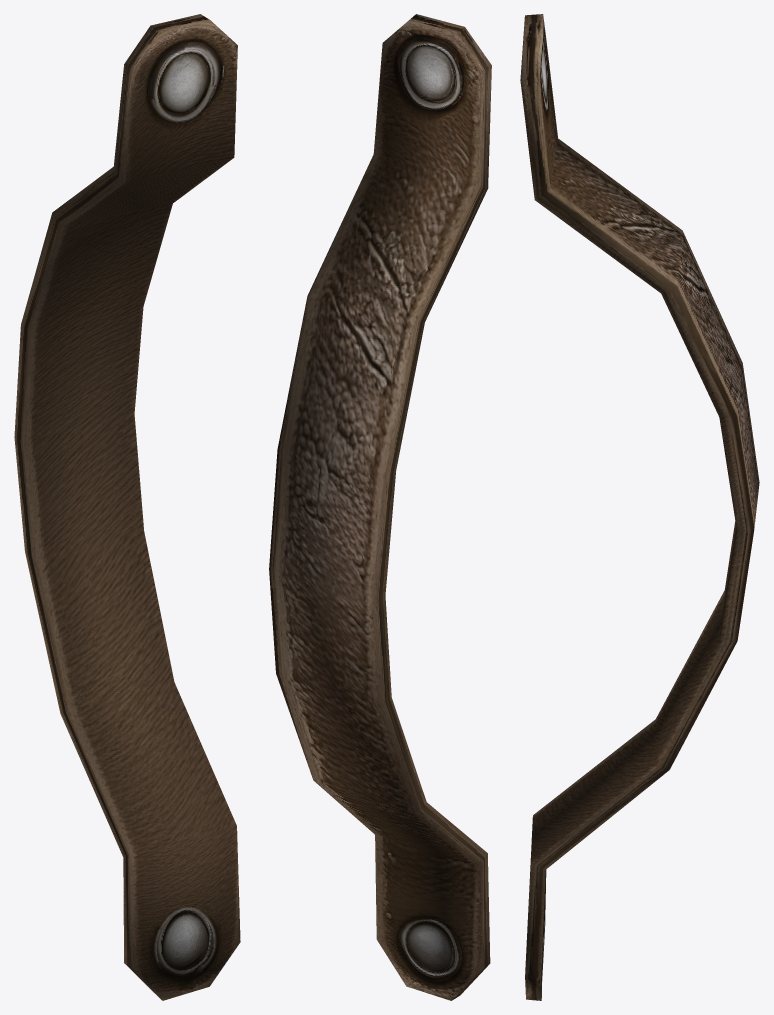
File: MedievalShieldHandle.fbx
3 views of the same model, side by side, from view 1: azimuth 30°, elevation 25°; view 2: azimuth 150°, elevation 25°; view 3: azimuth 270°, elevation 25° (orthographic).
Visible parts, largest first — view 1: MedievalShieldHandle; view 2: MedievalShieldHandle; view 3: MedievalShieldHandle.
Part boxes in pixels (x1,y1,x2,y2): MedievalShieldHandle: (14,14,240,1000); MedievalShieldHandle: (269,14,491,1000); MedievalShieldHandle: (520,14,759,1000).
Size of the model in its own units: 0.048 by 0.3915 by 0.0879.
1 material, 1 textured.
